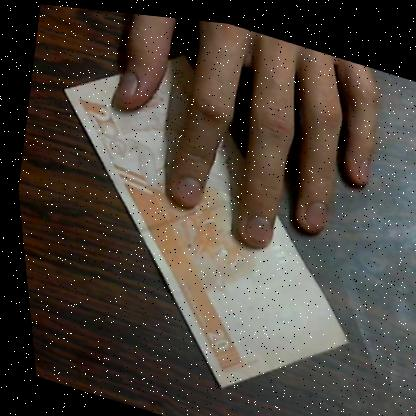twenty-back-vef: (0, 0, 411, 416)
